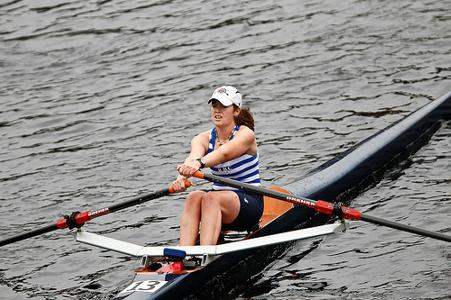person: (170, 86, 266, 247)
